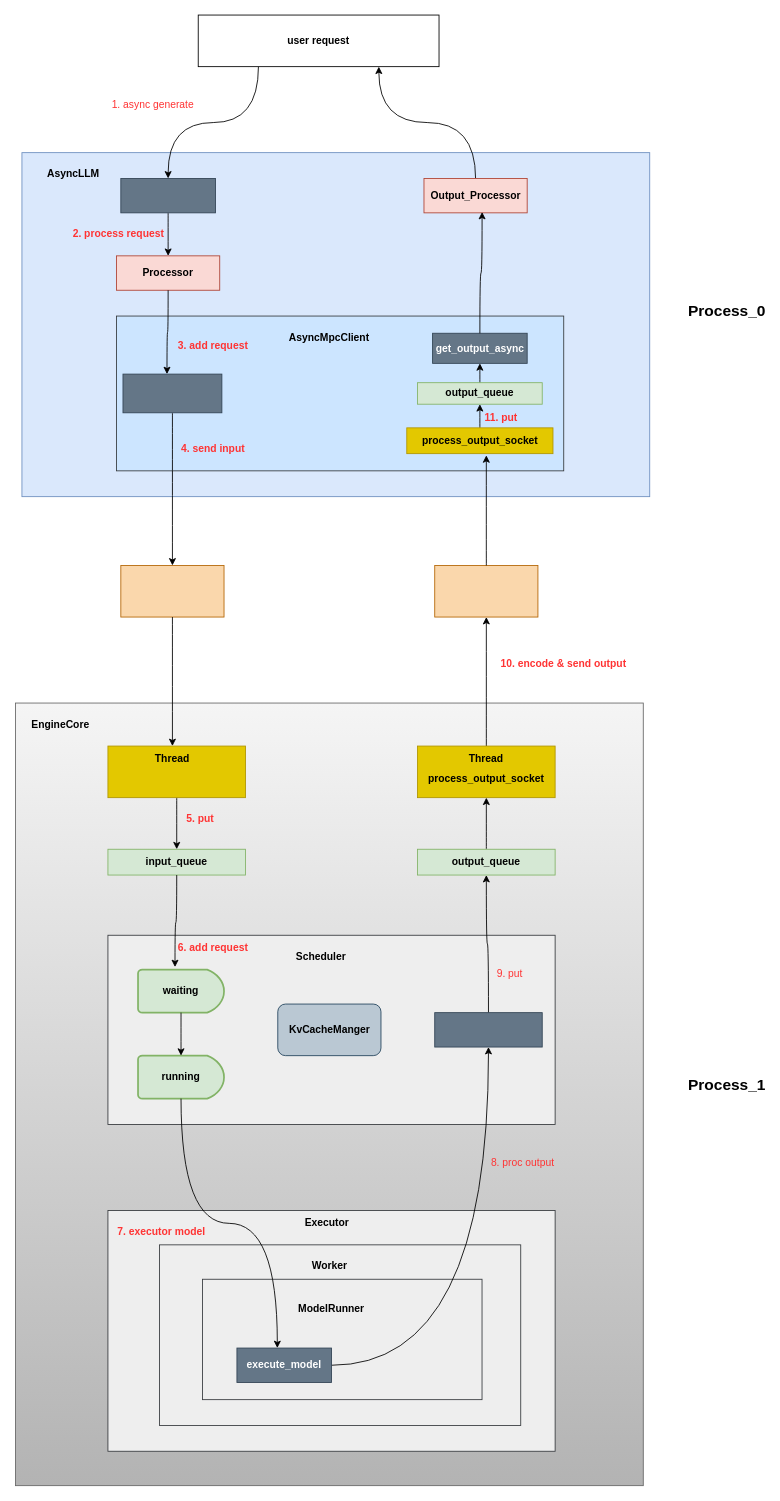
This 780x1501 diagram has some shape labels left out. Here are the shapes that lost their labels. From the top down, the box of each, then its label:
(120, 178, 215, 213): generate
(122, 373, 222, 413): add_request_async
(120, 565, 224, 617): input_path
(434, 565, 538, 617): output_path
(107, 745, 246, 798): process_input_socket
(434, 1012, 542, 1047): update_from_output
